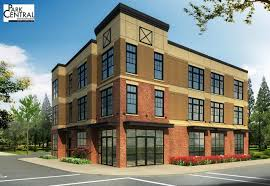Building House: (49, 13, 251, 158)
